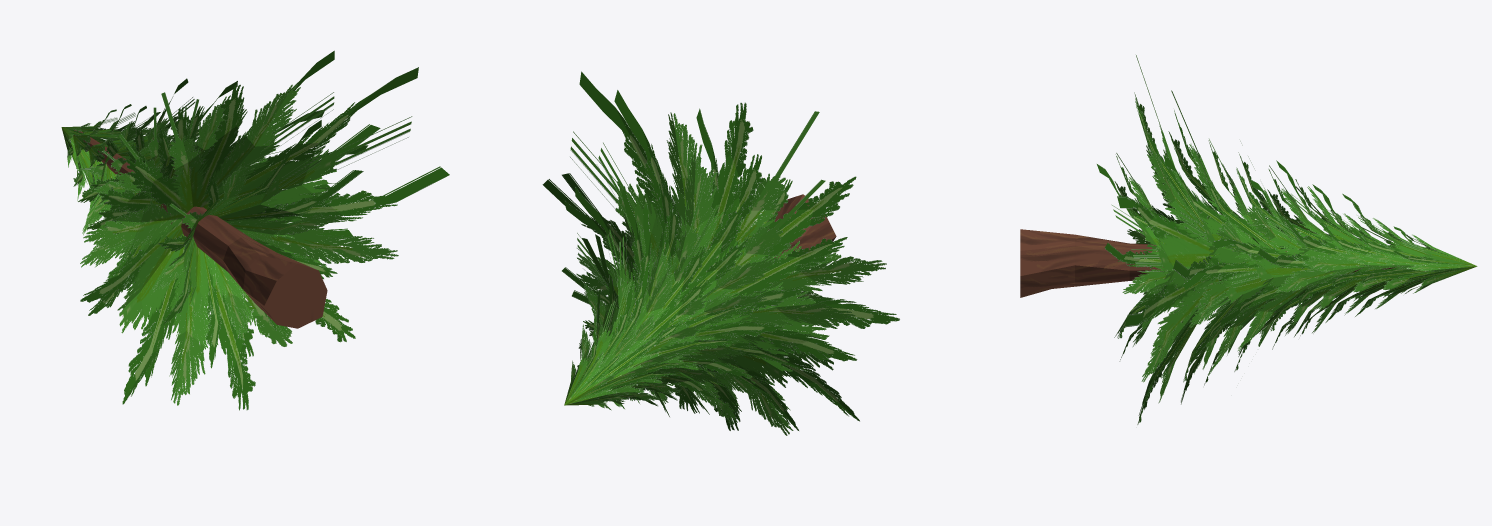
Rendered from Tree2.fbx.
3 renders of one model, left to right at view 1: azimuth 30°, elevation 25°; view 2: azimuth 150°, elevation 25°; view 3: azimuth 270°, elevation 25°, orthographic. The views are drawn at different scales.
Visible parts, largest first — view 1: Tree 2; view 2: Tree 2; view 3: Tree 2.
Part boxes in pixels (x1=…): Tree 2: x1=61, y1=50, x2=449, y2=410; Tree 2: x1=542, y1=71, x2=899, y2=435; Tree 2: x1=1020, y1=55, x2=1477, y2=424.
Size of the model in its own units: 793 by 793 by 688.
Materials: 2 (2 with a texture image).
